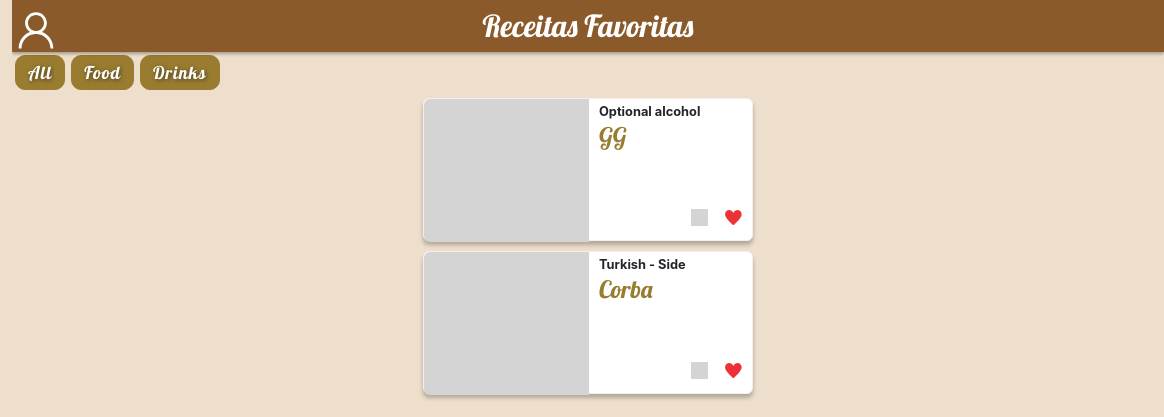
it: Receitas favoritas › Ao clicar no botão de food só aparece a comida
Step 1. Click the button with test id "filter-by-food-btn" → (103, 72), box [71,55,134,90]
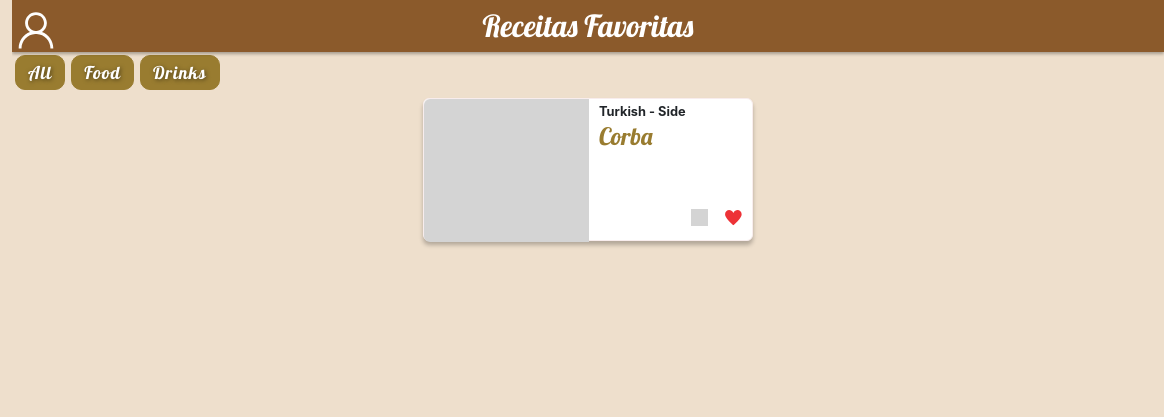
Result: the heading "Turkish - Side" is shown at [599,104,686,119]
